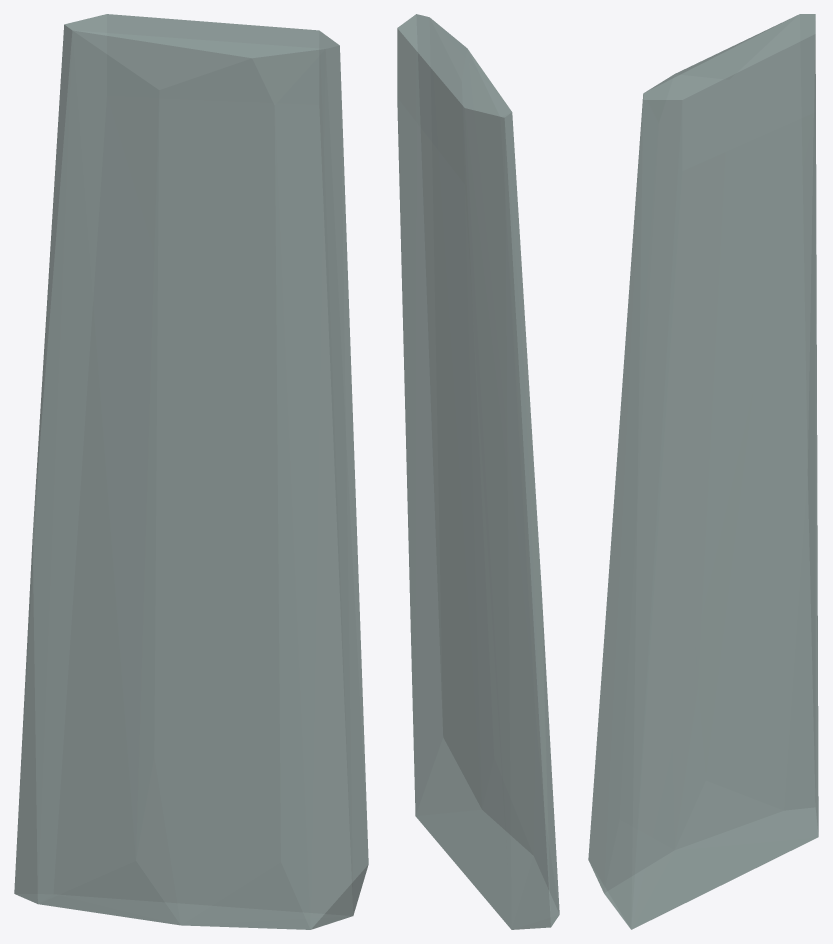
3 renders of one model, left to right at view 1: azimuth 30°, elevation 25°; view 2: azimuth 150°, elevation 25°; view 3: azimuth 270°, elevation 25°, orthographic. The views are drawn at different scales.
Visible parts, largest first — view 1: Shape_IndexedFaceSet.010_Shape_IndexedFaceSet.3667; view 2: Shape_IndexedFaceSet.010_Shape_IndexedFaceSet.3667; view 3: Shape_IndexedFaceSet.010_Shape_IndexedFaceSet.3667.
Part boxes in pixels (left/top/right/bottom): Shape_IndexedFaceSet.010_Shape_IndexedFaceSet.3667: left=14, top=14, right=368, bottom=929; Shape_IndexedFaceSet.010_Shape_IndexedFaceSet.3667: left=397, top=14, right=559, bottom=929; Shape_IndexedFaceSet.010_Shape_IndexedFaceSet.3667: left=588, top=14, right=818, bottom=929.
Size of the model in its own units: 0.0952 by 0.3262 by 0.0823.
